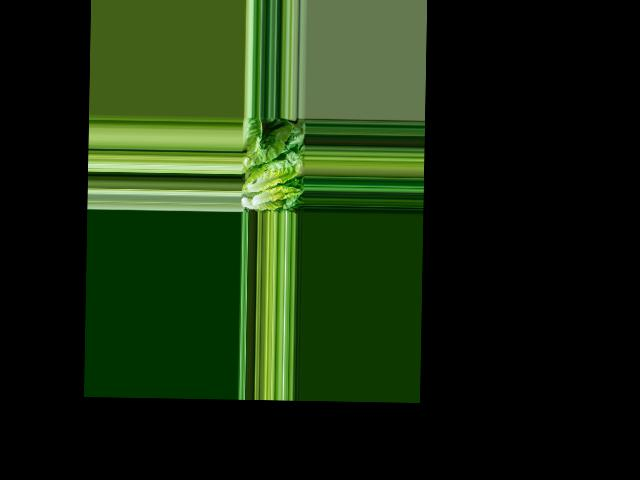lettuce: (240, 149, 300, 211)
